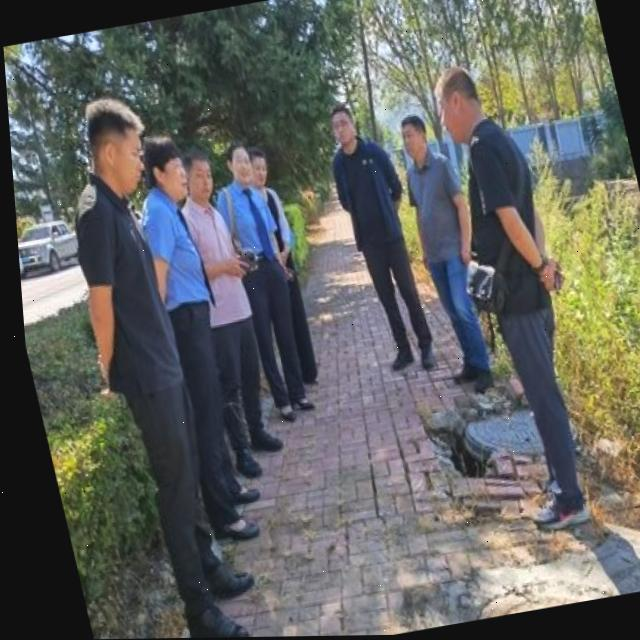manhole: (405, 373, 544, 498)
